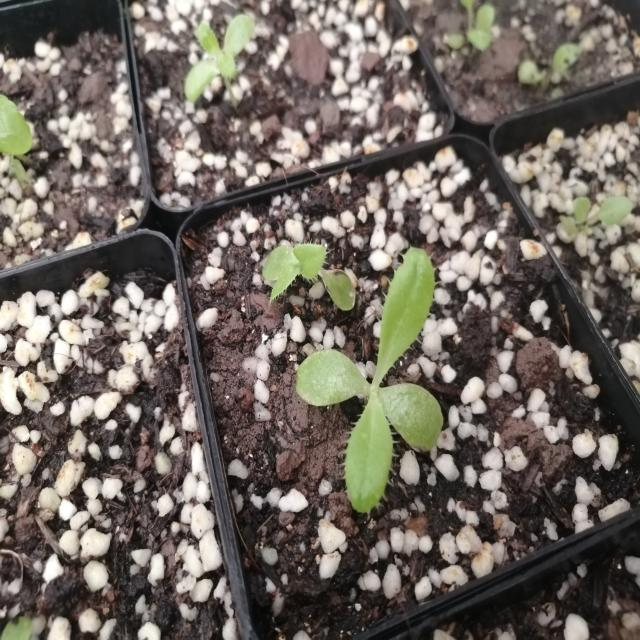field_thistle: (250, 200, 462, 517)
